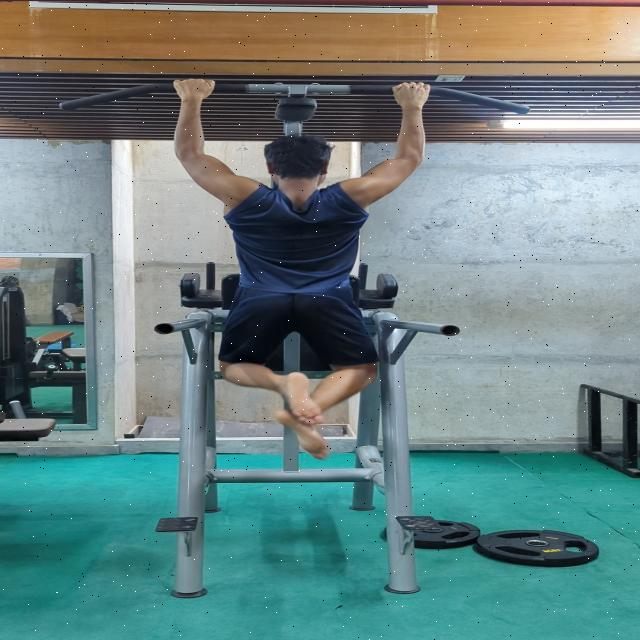Normal_PullUps: (166, 78, 438, 461)
